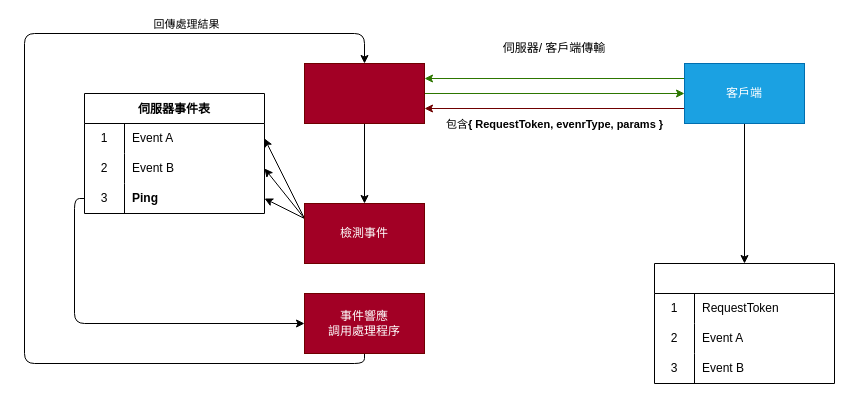
Image size: 852x401. Some labels were removed from this diagram. The box of each missing label's shape, as (x1, y1, x2, y2) in pixels:
事件池 (evPool): (654, 262, 834, 384)
伺服器端: (304, 62, 424, 124)
